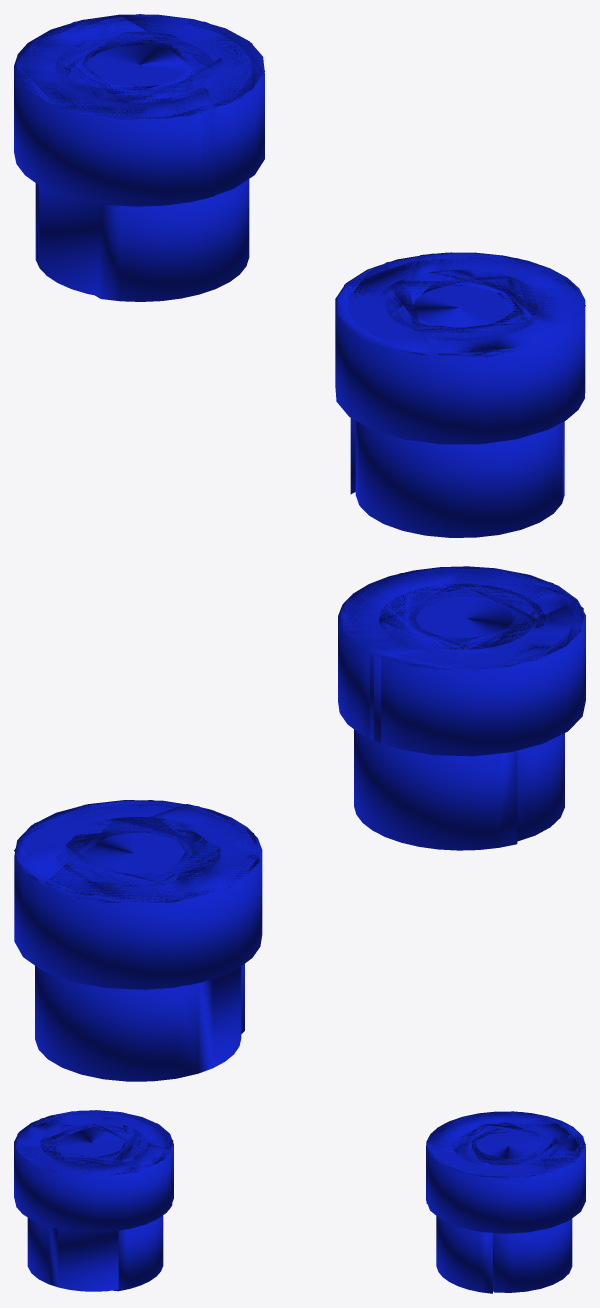
The model's file is tuyeau_element_000051.obj.
3 renders of one model, top to bottom at view 1: azimuth 30°, elevation 25°; view 2: azimuth 150°, elevation 25°; view 3: azimuth 270°, elevation 25°, orthographic. The views are drawn at different scales.
Visible parts, largest first — view 1: tuyeau1_Cube.014, tuyeau2_Cube.017; view 2: tuyeau2_Cube.017, tuyeau1_Cube.014; view 3: tuyeau1_Cube.014, tuyeau2_Cube.017.
Part boxes in pixels (x1,y1,x2,y2): tuyeau1_Cube.014: [14, 14, 264, 301]; tuyeau2_Cube.017: [335, 252, 585, 537]; tuyeau2_Cube.017: [338, 566, 585, 850]; tuyeau1_Cube.014: [14, 800, 262, 1081]; tuyeau1_Cube.014: [426, 1111, 585, 1293]; tuyeau2_Cube.017: [14, 1110, 173, 1291].
Bounding box in the file's own units: 3590 × 2917 × 12619.
